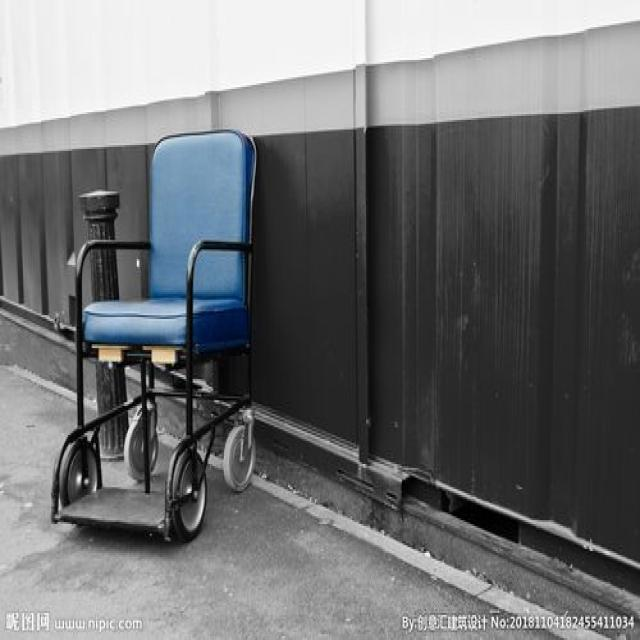wheelchairs: (36, 120, 272, 548)
